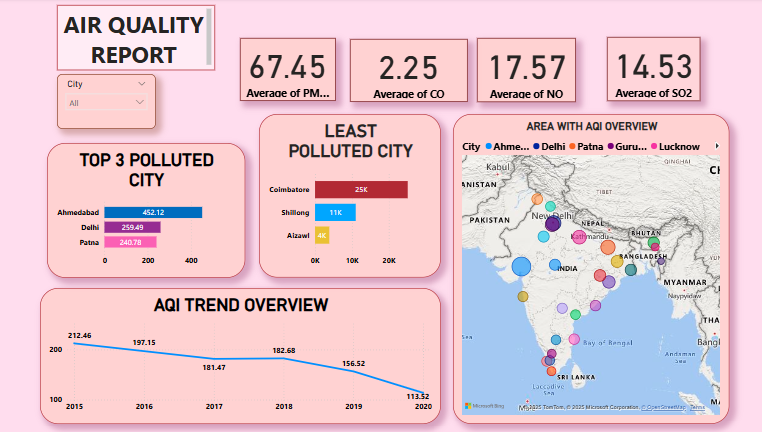

This screenshot's page, from the dashboard's own definition file:
{"tool":"powerbi","page":{"name":"Page 1","canvas":[1280,720],"ordinal":0},"visuals":[{"type":"barChart","title":"TOP 3 POLLUTED CITY","fields":{"Y":["Avg(city_day.AQI)"],"Category":["city_day.City"]},"box":[100,237.6,324.5,221.3],"z":0},{"type":"barChart","title":"LEAST POLLUTED CITY","fields":{"Category":["city_day.City"],"Y":["Sum(city_day.AQI)"]},"box":[446.7,190,298.3,268.3],"z":1000},{"type":"lineChart","title":"AQI TREND OVERVIEW","fields":{"Y":["Avg(city_day.AQI)"],"Category":["city_day.Date.Variation.Date Hierarchy.Year"]},"box":[88.3,475,656.7,223.3],"z":2000},{"type":"map","title":"AREA WITH AQI OVERVIEW","fields":{"Category":["city_day.City"],"Series":["city_day.City"],"Size":["Avg(city_day.AQI)"]},"box":[766,190,453.3,508.3],"z":3000},{"type":"textbox","box":[116.4,11.5,259,106.5],"z":4000},{"type":"card","fields":{"Values":["Avg(city_day.CO)"]},"box":[596.7,66.7,193.3,103.3],"z":5000},{"type":"card","fields":{"Values":["Avg(city_day.PM2.5)"]},"box":[416.7,65,156.7,103.3],"z":6000},{"type":"card","fields":{"Values":["Avg(city_day.NO)"]},"box":[805,65,161.7,105],"z":7000},{"type":"card","fields":{"Values":["Avg(city_day.SO2)"]},"box":[1018.3,63.3,153.3,105],"z":8000},{"type":"slicer","fields":{"Values":["city_day.City"]},"box":[116.4,124.6,162.3,90.1],"z":9000}]}

Visuals, with their boxes in screenshot pixels (x1, y1, x2, y2), scaled from the page's 1280x720 canvas onto the 762x432 screenshot:
"TOP 3 POLLUTED CITY" barChart: rect(60, 143, 253, 275)
"LEAST POLLUTED CITY" barChart: rect(266, 114, 444, 275)
"AQI TREND OVERVIEW" lineChart: rect(53, 285, 444, 419)
"AREA WITH AQI OVERVIEW" map: rect(456, 114, 726, 419)
textbox: rect(69, 7, 223, 71)
card - Avg(city_day.CO): rect(355, 40, 470, 102)
card - Avg(city_day.PM2.5): rect(248, 39, 341, 101)
card - Avg(city_day.NO): rect(479, 39, 575, 102)
card - Avg(city_day.SO2): rect(606, 38, 697, 101)
slicer - city_day.City: rect(69, 75, 166, 129)
